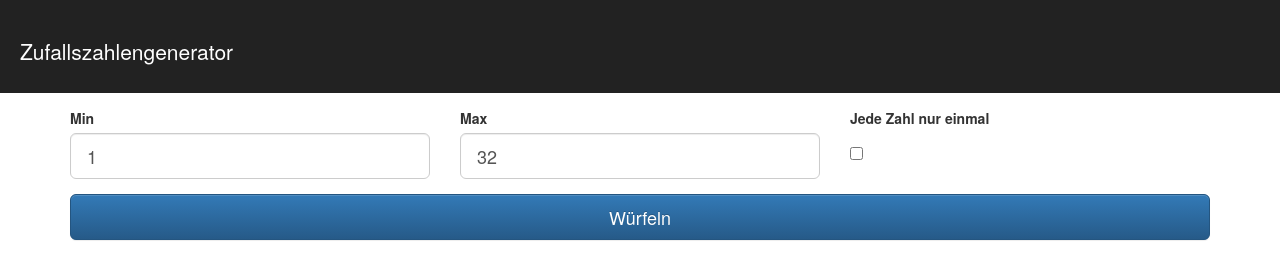
Test case: App › changes button name
The image size is (1280, 258).
Check: the button "Würfeln" is shown, box [70,194,1210,240]
Click the checkbox with id "lotto" at (856, 154), box [850,147,863,160]
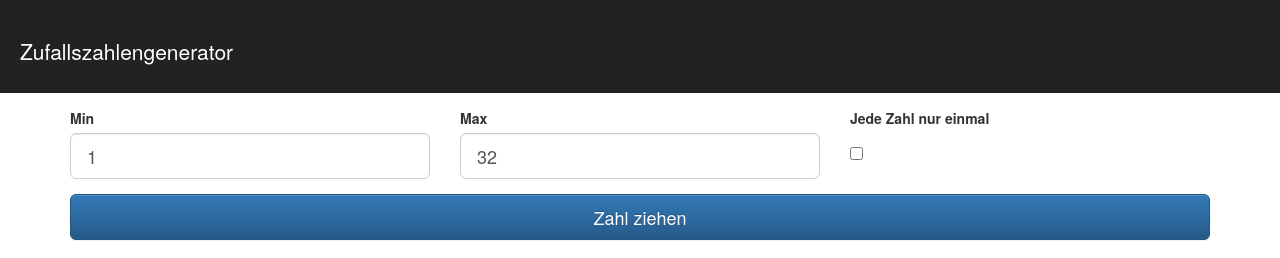
Check: the button "Zahl ziehen" is shown, box [70,194,1210,240]
